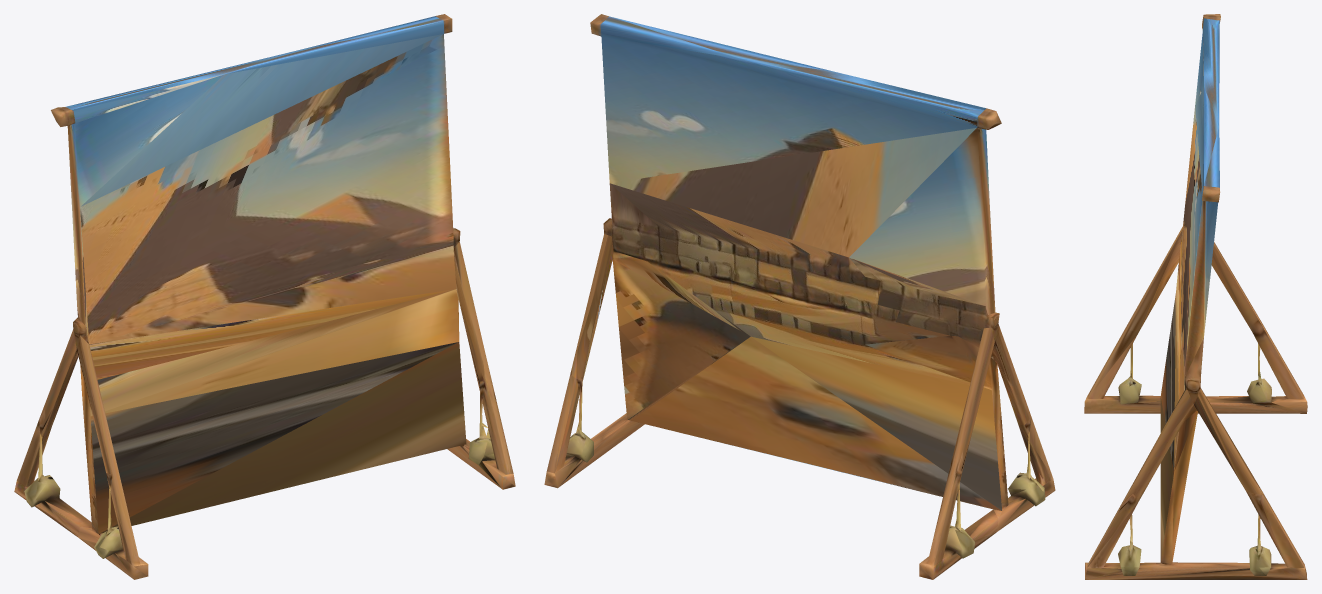
Rendered from film-flat-pyramids.glb.
3 renders of one model, left to right at view 1: azimuth 30°, elevation 25°; view 2: azimuth 150°, elevation 25°; view 3: azimuth 270°, elevation 25°, orthographic. The views are drawn at different scales.
Parts seen in each view (by area): view 1: SM_film-flat-pyramids; view 2: SM_film-flat-pyramids; view 3: SM_film-flat-pyramids.
Boxes of the visible parts, x1,y1,x2,y2 form: SM_film-flat-pyramids: [14, 14, 515, 579]; SM_film-flat-pyramids: [544, 14, 1055, 579]; SM_film-flat-pyramids: [1084, 14, 1307, 579].
Size of the model in its own units: 5 by 5 by 2.59.
Materials: 1 (1 with a texture image).
